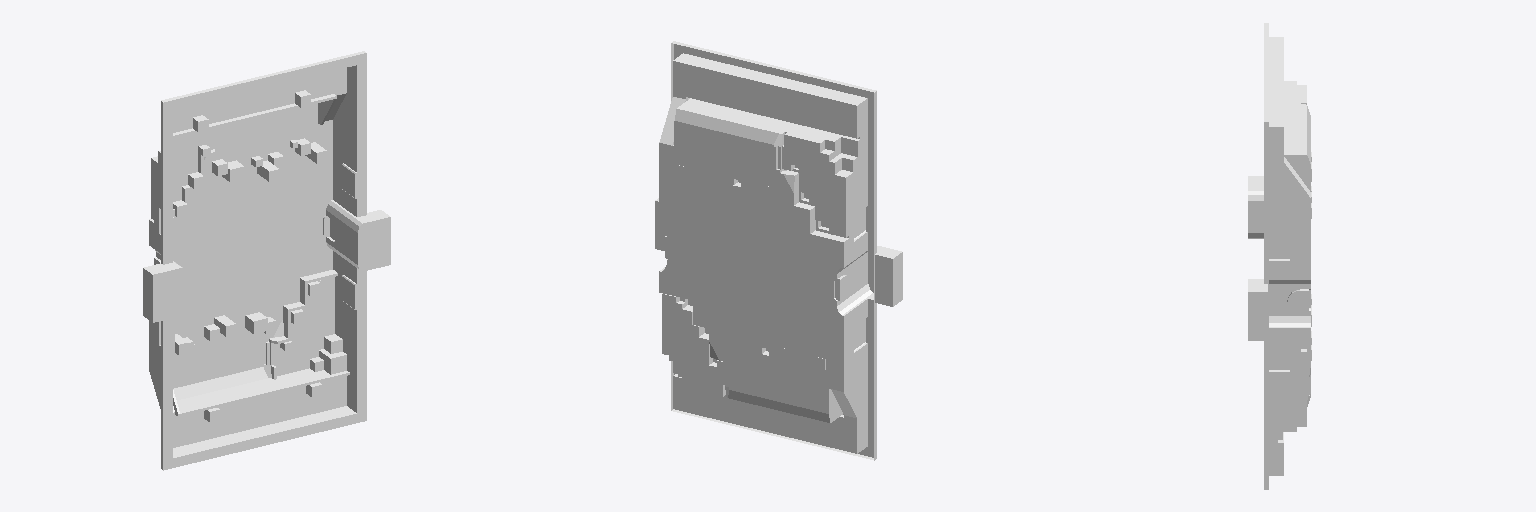
The model's file is aim_map.obj.
3 views of the same model, side by side, from view 1: azimuth 30°, elevation 25°; view 2: azimuth 150°, elevation 25°; view 3: azimuth 270°, elevation 25° (orthographic).
Visible parts, largest first — view 1: BSP_Object.model_0; view 2: BSP_Object.model_0; view 3: BSP_Object.model_0.
Boxes of the visible parts, <box> form: BSP_Object.model_0: <box>143,51,390,470</box>; BSP_Object.model_0: <box>655,41,902,460</box>; BSP_Object.model_0: <box>1248,23,1310,489</box>.
Bounding box in the file's own units: 1489 × 2200 × 343.